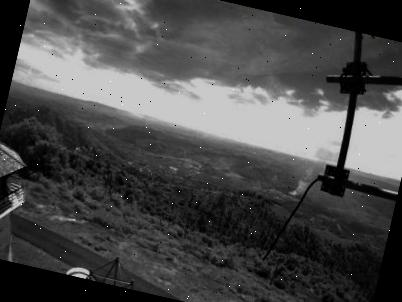smoke: (289, 144, 334, 203)
